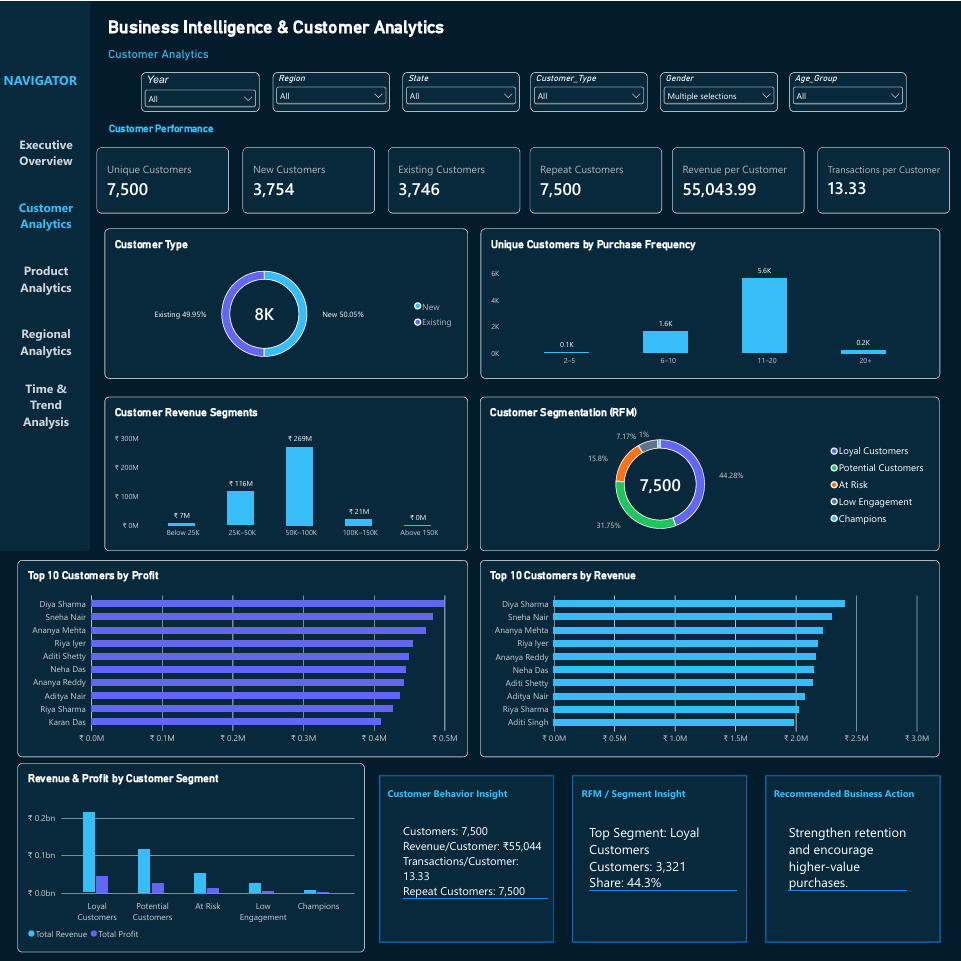

The page's visual inventory and layout, read from the dashboard file:
{"tool":"powerbi","page":{"name":"Customer Analytics","canvas":[1600,1600],"ordinal":1},"visuals":[{"type":"textbox","box":[181.2,25,800,92.5],"z":0},{"type":"shape","box":[0,0,150,915],"z":1000},{"type":"pageNavigator","box":[2.5,202.5,149.1,519.3],"z":2000},{"type":"textbox","box":[181.7,201.7,500,30],"z":4000},{"type":"slicer","fields":{"Values":["dim_date.Year"]},"box":[236,118,197,66],"z":5000},{"type":"slicer","fields":{"Values":["dim_geography.Region"]},"box":[455,117.5,195,66.2],"z":6000},{"type":"slicer","fields":{"Values":["dim_geography.State"]},"box":[671,118,195,66],"z":7000},{"type":"slicer","fields":{"Values":["dim_customer.Customer_Type"]},"box":[884,118,195,66],"z":8000},{"type":"slicer","fields":{"Values":["dim_customer.Gender"]},"box":[1100,118,196,66],"z":9000},{"type":"slicer","fields":{"Values":["dim_customer.Age_Group"]},"box":[1315,118,195,66],"z":10000},{"type":"cardVisual","fields":{"Data":["fact_transaction.Unique Customers"]},"box":[161.7,243.3,220,110],"z":11000},{"type":"cardVisual","fields":{"Data":["fact_transaction.New Customers"]},"box":[405,243.3,220,110],"z":12000},{"type":"cardVisual","fields":{"Data":["fact_transaction.Existing Customers"]},"box":[646.7,243.3,220,110],"z":13000},{"type":"cardVisual","fields":{"Data":["fact_transaction.Repeat Customers"]},"box":[883.3,243.3,220,110],"z":14000},{"type":"cardVisual","fields":{"Data":["fact_transaction.Revenue per Customer"]},"box":[1120,243.3,220,110],"z":15000},{"type":"cardVisual","fields":{"Data":["fact_transaction.Transactions per Customer"]},"box":[1361.7,243.3,220,110],"z":16000},{"type":"donutChart","title":"Customer Type","fields":{"Category":["dim_customer.Customer_Type"],"Y":["fact_transaction.Unique Customers"]},"box":[175,377.5,605,250],"z":17000},{"type":"clusteredColumnChart","fields":{"Category":["dim_customer.Purchase Frequency"],"Y":["fact_transaction.Unique Customers"]},"box":[801.1,377.8,765,250],"z":18000},{"type":"clusteredColumnChart","title":"Customer Revenue Segments","fields":{"Category":["dim_customer.Revenue Segment"],"Y":["fact_transaction.Total Revenue"]},"box":[175,657.5,605,257.5],"z":19000},{"type":"clusteredBarChart","title":"Top 10 Customers by Revenue","fields":{"Category":["dim_customer.Customer_Name"],"Y":["fact_transaction.Total Revenue"]},"box":[800,930,765,327.5],"z":20000},{"type":"clusteredBarChart","title":"Top 10 Customers by Profit","fields":{"Category":["dim_customer.Customer_Name"],"Y":["fact_transaction.Total Profit"]},"box":[30,930,750,327.5],"z":21000},{"type":"donutChart","title":"Customer Segmentation (RFM)","fields":{"Category":["dim_customer.Customer Segment"],"Y":["fact_transaction.Unique Customers"]},"box":[800,657.5,765,257.5],"z":22000},{"type":"clusteredColumnChart","title":"Revenue & Profit by Customer Segment","fields":{"Category":["dim_customer.Customer Segment"],"Y":["fact_transaction.Total Revenue","fact_transaction.Total Profit"]},"box":[30,1267.5,577.5,315],"z":23000},{"type":"shape","box":[632.9,1289,290,277.1],"z":24000},{"type":"shape","box":[1275.7,1289,290,277.1],"z":25000},{"type":"shape","box":[954.3,1289,290,277.1],"z":26000},{"type":"textbox","box":[672,1368,240,180],"z":27000},{"type":"textbox","box":[645.7,1307.1,264.3,42.9],"z":28000},{"type":"textbox","box":[968.6,1307.1,260,42.9],"z":29000},{"type":"textbox","box":[982,1368,246,180],"z":30000},{"type":"textbox","box":[1288.6,1307.1,264.3,44.3],"z":31000},{"type":"textbox","box":[1314,1368,198,166],"z":32000},{"type":"textbox","box":[7.3,116.4,141.8,52.7],"z":33000}]}

Visuals, with their boxes in screenshot pixels (x1, y1, x2, y2), scaled from the page's 1600x1600 canvas onto the 961x961 screenshot:
textbox: {"left": 109, "top": 15, "right": 589, "bottom": 71}
shape: {"left": 0, "top": 0, "right": 90, "bottom": 550}
pageNavigator: {"left": 2, "top": 122, "right": 91, "bottom": 434}
textbox: {"left": 109, "top": 121, "right": 409, "bottom": 139}
slicer - dim_date.Year: {"left": 142, "top": 71, "right": 260, "bottom": 111}
slicer - dim_geography.Region: {"left": 273, "top": 71, "right": 390, "bottom": 110}
slicer - dim_geography.State: {"left": 403, "top": 71, "right": 520, "bottom": 111}
slicer - dim_customer.Customer_Type: {"left": 531, "top": 71, "right": 648, "bottom": 111}
slicer - dim_customer.Gender: {"left": 661, "top": 71, "right": 778, "bottom": 111}
slicer - dim_customer.Age_Group: {"left": 790, "top": 71, "right": 907, "bottom": 111}
cardVisual - fact_transaction.Unique Customers: {"left": 97, "top": 146, "right": 229, "bottom": 212}
cardVisual - fact_transaction.New Customers: {"left": 243, "top": 146, "right": 375, "bottom": 212}
cardVisual - fact_transaction.Existing Customers: {"left": 388, "top": 146, "right": 521, "bottom": 212}
cardVisual - fact_transaction.Repeat Customers: {"left": 531, "top": 146, "right": 663, "bottom": 212}
cardVisual - fact_transaction.Revenue per Customer: {"left": 673, "top": 146, "right": 805, "bottom": 212}
cardVisual - fact_transaction.Transactions per Customer: {"left": 818, "top": 146, "right": 950, "bottom": 212}
"Customer Type" donutChart: {"left": 105, "top": 227, "right": 468, "bottom": 377}
clusteredColumnChart - dim_customer.Purchase Frequency x fact_transaction.Unique Customers: {"left": 481, "top": 227, "right": 941, "bottom": 377}
"Customer Revenue Segments" clusteredColumnChart: {"left": 105, "top": 395, "right": 468, "bottom": 550}
"Top 10 Customers by Revenue" clusteredBarChart: {"left": 480, "top": 559, "right": 940, "bottom": 755}
"Top 10 Customers by Profit" clusteredBarChart: {"left": 18, "top": 559, "right": 468, "bottom": 755}
"Customer Segmentation (RFM)" donutChart: {"left": 480, "top": 395, "right": 940, "bottom": 550}
"Revenue & Profit by Customer Segment" clusteredColumnChart: {"left": 18, "top": 761, "right": 365, "bottom": 950}
shape: {"left": 380, "top": 774, "right": 554, "bottom": 941}
shape: {"left": 766, "top": 774, "right": 940, "bottom": 941}
shape: {"left": 573, "top": 774, "right": 747, "bottom": 941}
textbox: {"left": 404, "top": 822, "right": 548, "bottom": 930}
textbox: {"left": 388, "top": 785, "right": 547, "bottom": 811}
textbox: {"left": 582, "top": 785, "right": 738, "bottom": 811}
textbox: {"left": 590, "top": 822, "right": 738, "bottom": 930}
textbox: {"left": 774, "top": 785, "right": 933, "bottom": 812}
textbox: {"left": 789, "top": 822, "right": 908, "bottom": 921}
textbox: {"left": 4, "top": 70, "right": 90, "bottom": 102}
